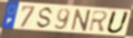7: (20, 4, 37, 29)
9: (53, 8, 73, 31)
N: (70, 9, 93, 33)
R: (88, 10, 110, 33)
S: (35, 6, 55, 30)
U: (105, 11, 131, 35)
